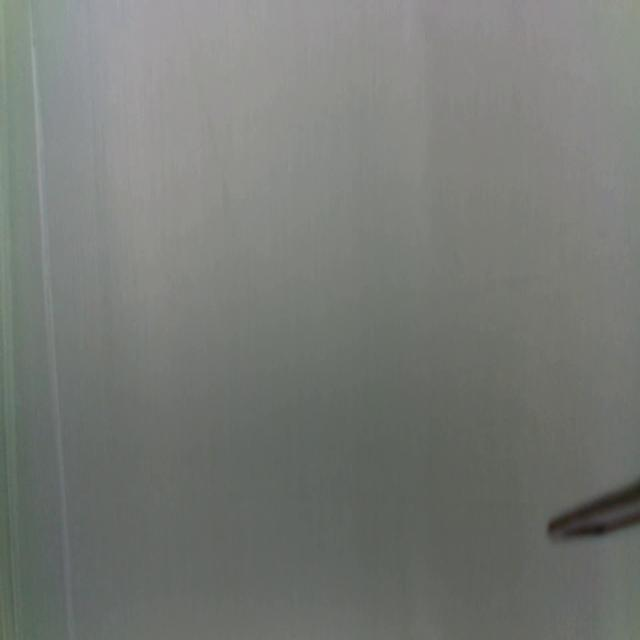crease: (28, 0, 76, 636), (1, 1, 20, 637)
